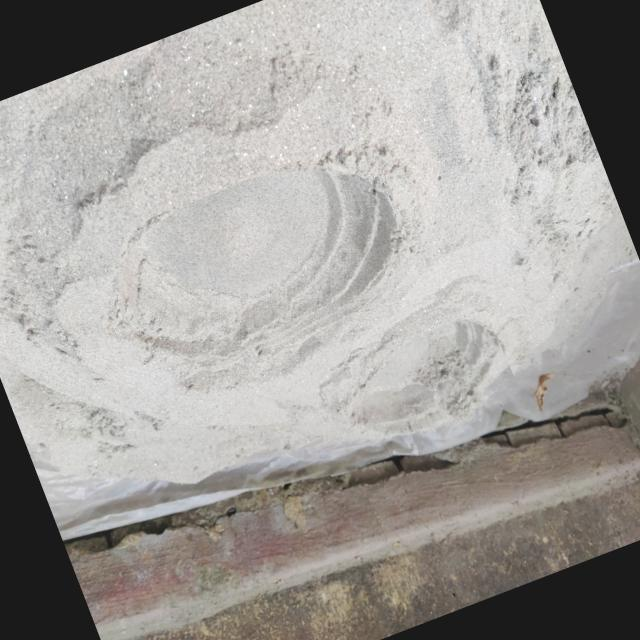C20: (116, 162, 397, 360), (358, 315, 499, 430)
